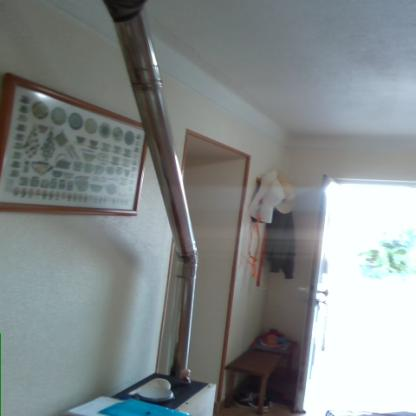open: (307, 160, 416, 416)
